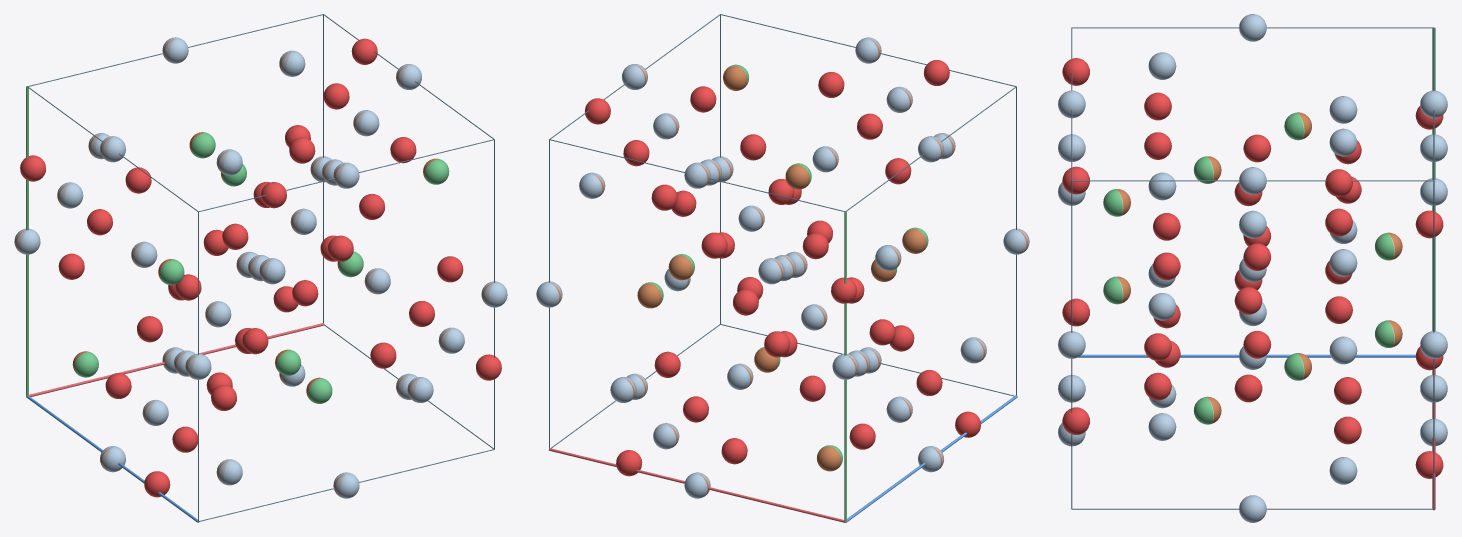
The model's file is chromite.glb.
3 renders of one model, left to right at view 1: azimuth 30°, elevation 25°; view 2: azimuth 150°, elevation 25°; view 3: azimuth 270°, elevation 25°, orthographic. The views are drawn at different scales.
Parts seen in each view (by area): view 1: Ô mạng và các trục a, b, c, O · O · 1 (×5); view 2: O · O · 1 (×11), Ô mạng và các trục a, b, c; view 3: CrM · Cr · 0.875 (×23), O · O · 1 (×22), Ô mạng và các trục a, b, c.
Boxes of the visible parts, x1,y1,x2,y2 form: Ô mạng và các trục a, b, c: (26, 14, 494, 522); O · O · 1 (×5): (222, 83, 396, 368); O · O · 1 (×11): (651, 72, 895, 464); Ô mạng và các trục a, b, c: (549, 14, 1017, 522); CrM · Cr · 0.875 (×23): (1058, 14, 1447, 522); O · O · 1 (×22): (1062, 58, 1443, 478); Ô mạng và các trục a, b, c: (1071, 27, 1435, 510).
Bounding box in the file's own units: 8.97 × 8.97 × 8.97.
